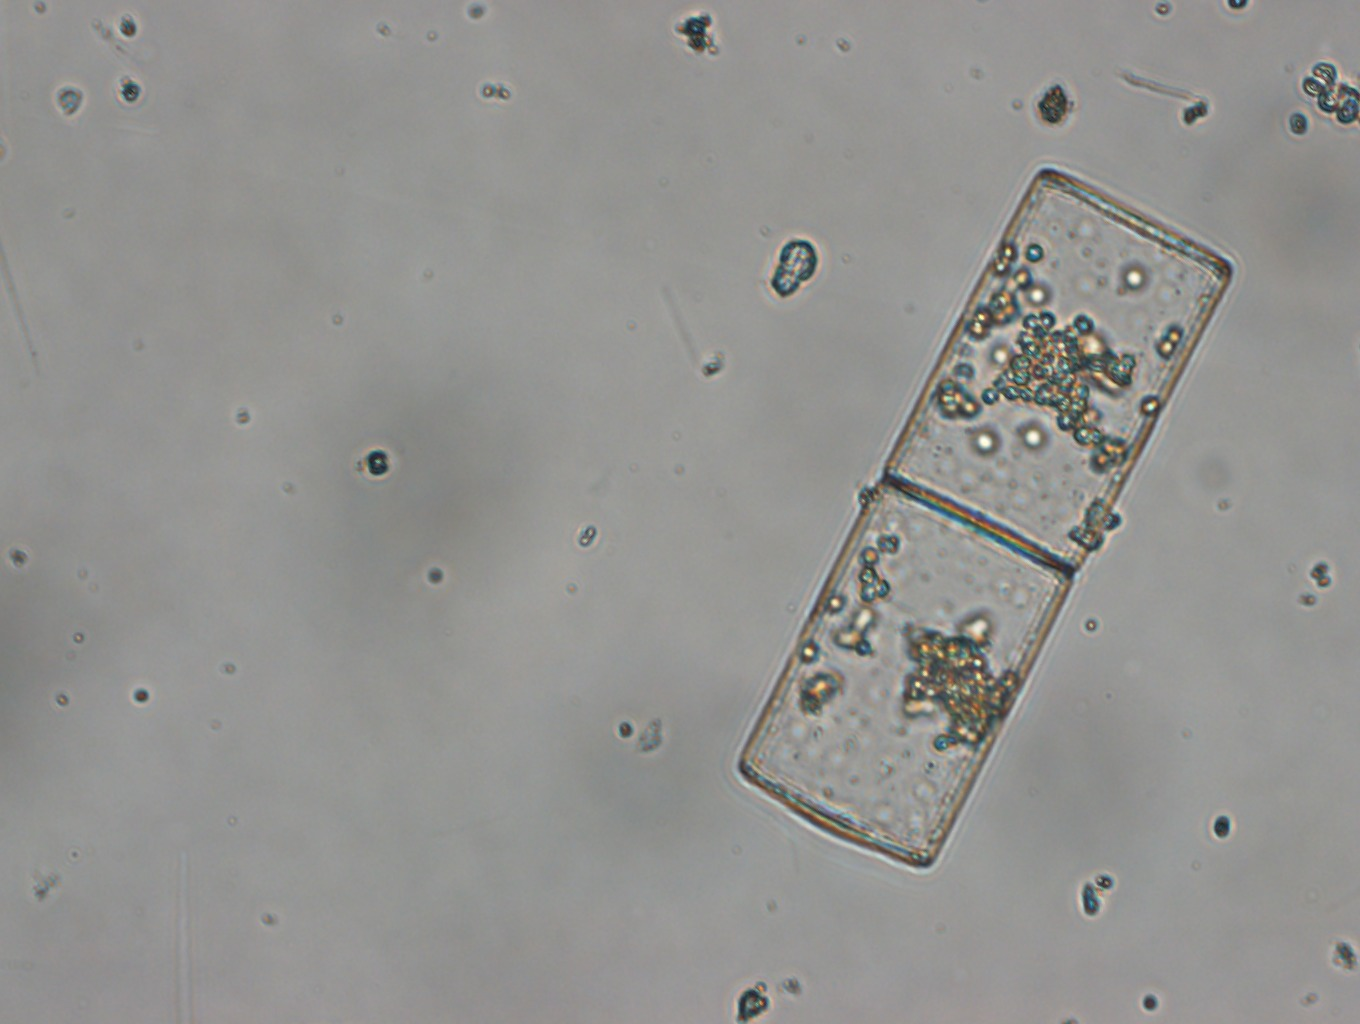guinardia flaccida: (728, 147, 1237, 884)
